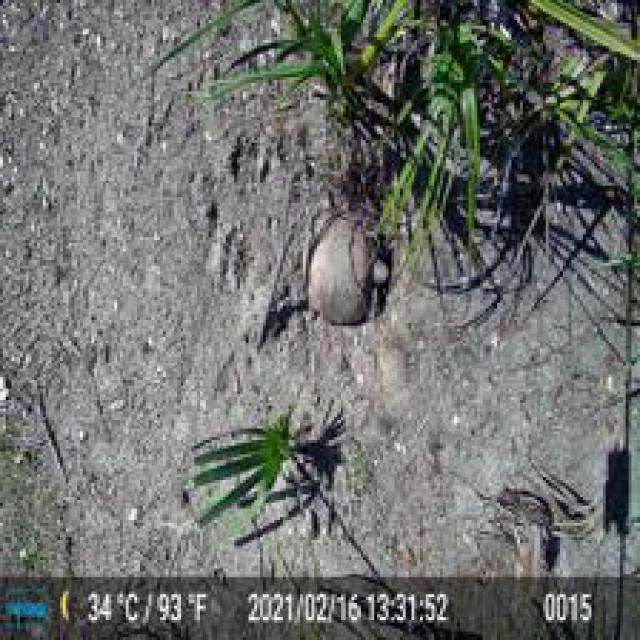tortoise: (297, 206, 392, 331)
